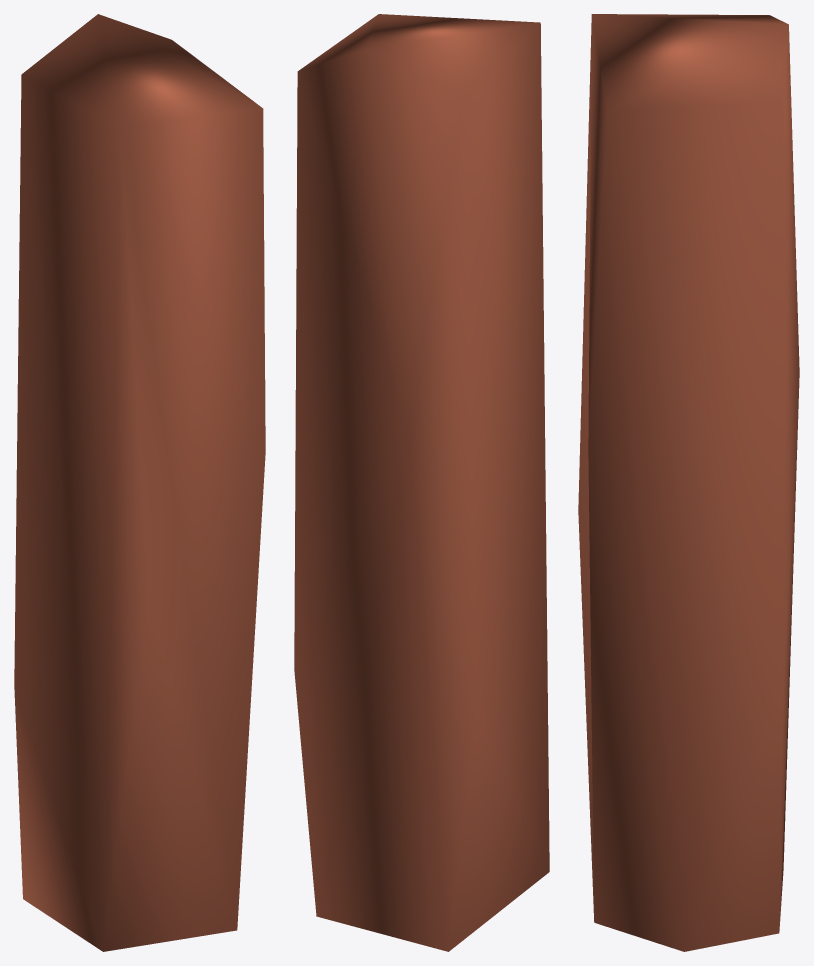
Rendered from Wood (1).fbx.
The picture shows the model from 3 angles, left to right: view 1: azimuth 30°, elevation 25°; view 2: azimuth 150°, elevation 25°; view 3: azimuth 270°, elevation 25°; orthographic projection. The views are drawn at different scales.
Parts seen in each view (by area): view 1: Cube.065; view 2: Cube.065; view 3: Cube.065.
Part boxes in pixels (<box>): Cube.065: <box>14,14,265,951</box>; Cube.065: <box>294,14,549,951</box>; Cube.065: <box>578,14,799,951</box>.
Bounding box in the file's own units: 278 × 1342 × 302.
